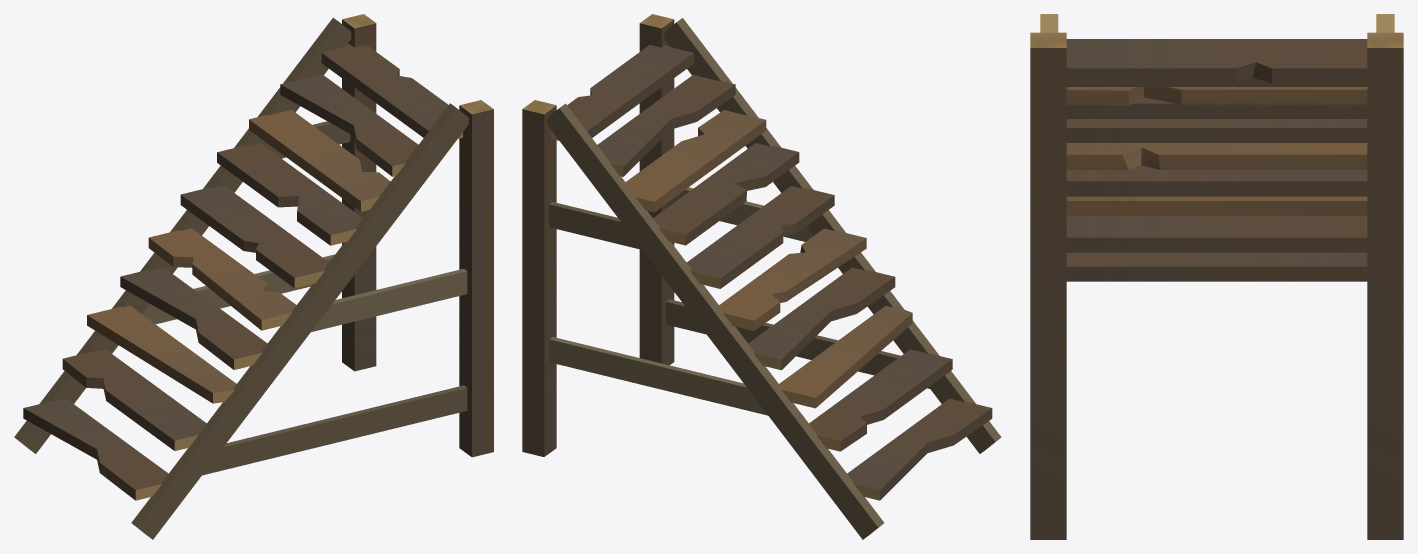
The model's file is Wood_Stairs_2.fbx.
3 views of the same model, side by side, from view 1: azimuth 30°, elevation 25°; view 2: azimuth 150°, elevation 25°; view 3: azimuth 270°, elevation 25° (orthographic). The views are drawn at different scales.
Parts seen in each view (by area): view 1: polySurface9794; view 2: polySurface9794; view 3: polySurface9794.
Boxes of the visible parts, left/top/right/bottom form: polySurface9794: left=14, top=14, right=493, bottom=539; polySurface9794: left=522, top=14, right=1001, bottom=539; polySurface9794: left=1030, top=14, right=1403, bottom=539.
Bounding box in the file's own units: 349 × 338 × 223.
